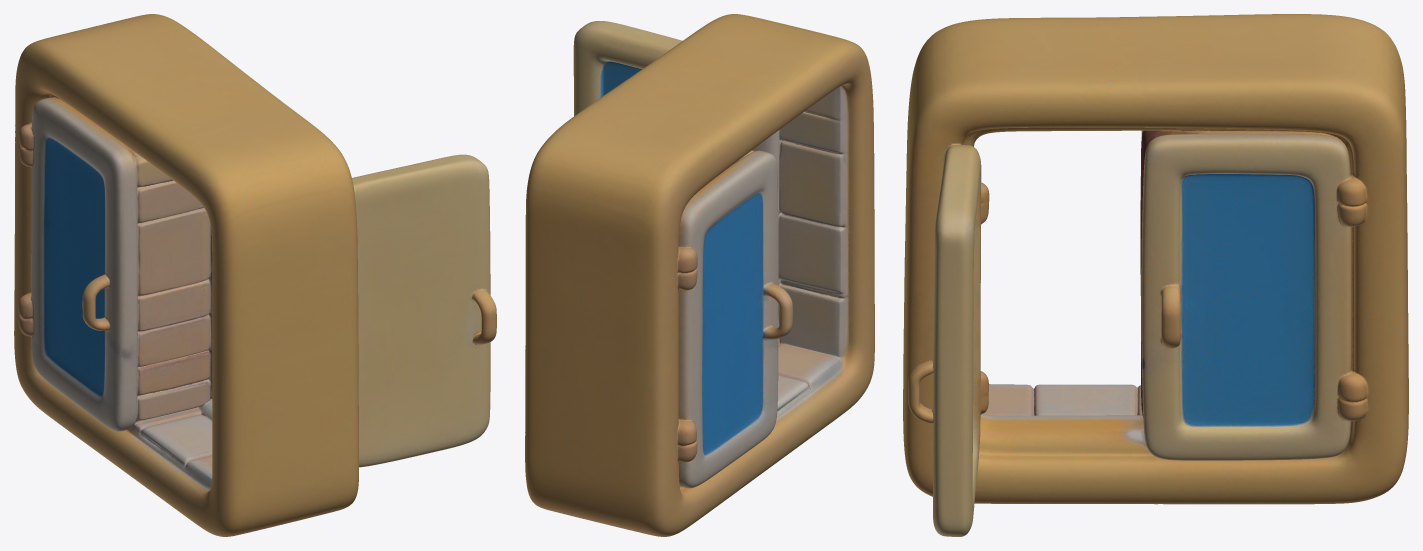
Rendered from WindowBlock.glb.
3 views of the same model, side by side, from view 1: azimuth 30°, elevation 25°; view 2: azimuth 150°, elevation 25°; view 3: azimuth 270°, elevation 25° (orthographic). The views are drawn at different scales.
Visible parts, largest first — view 1: tripo_node_bca2f47c-5281-4665-8ba0-5b7d7d0af74e; view 2: tripo_node_bca2f47c-5281-4665-8ba0-5b7d7d0af74e; view 3: tripo_node_bca2f47c-5281-4665-8ba0-5b7d7d0af74e.
Part boxes in pixels (x1,y1,x2,y2): tripo_node_bca2f47c-5281-4665-8ba0-5b7d7d0af74e: [14, 14, 496, 536]; tripo_node_bca2f47c-5281-4665-8ba0-5b7d7d0af74e: [525, 14, 874, 536]; tripo_node_bca2f47c-5281-4665-8ba0-5b7d7d0af74e: [903, 14, 1408, 536].
Bounding box in the file's own units: 0.8022 × 0.9275 × 1.
Materials: 1 (1 with a texture image).
